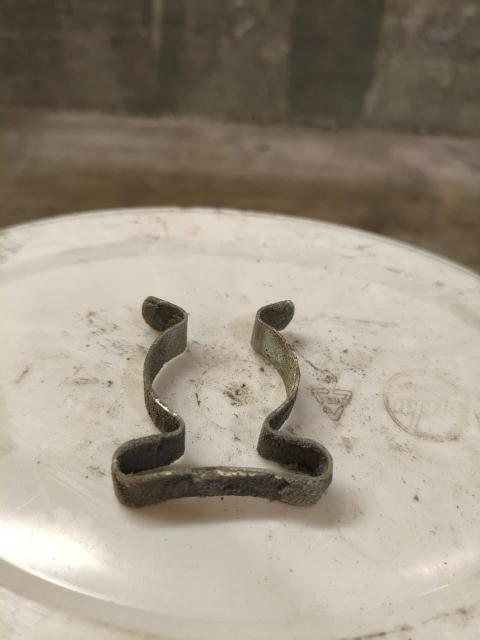Metal: (112, 282, 337, 510)
